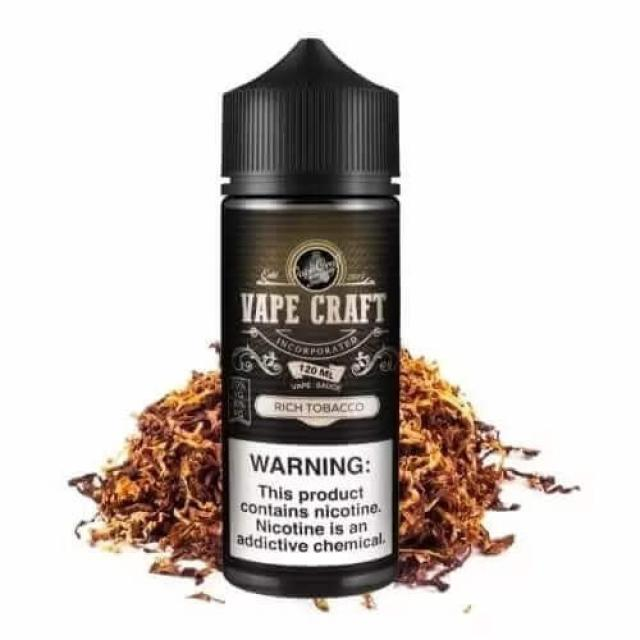Vapes: (216, 36, 404, 598)
